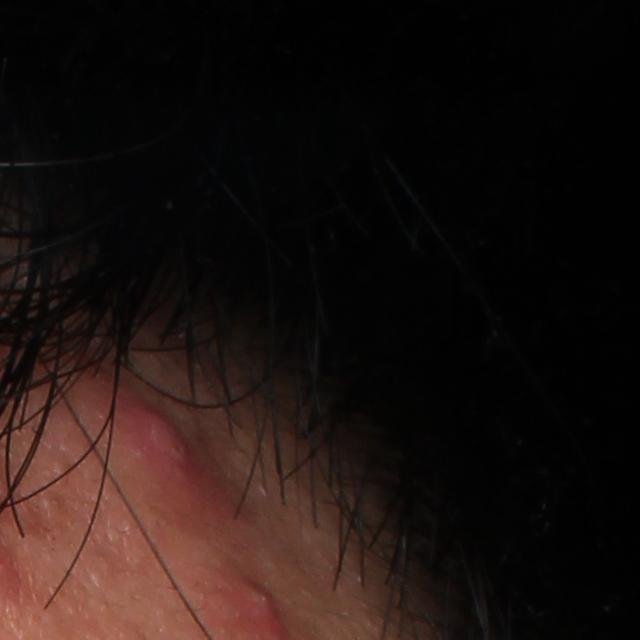papule: (113, 387, 226, 511), (214, 570, 284, 640)
